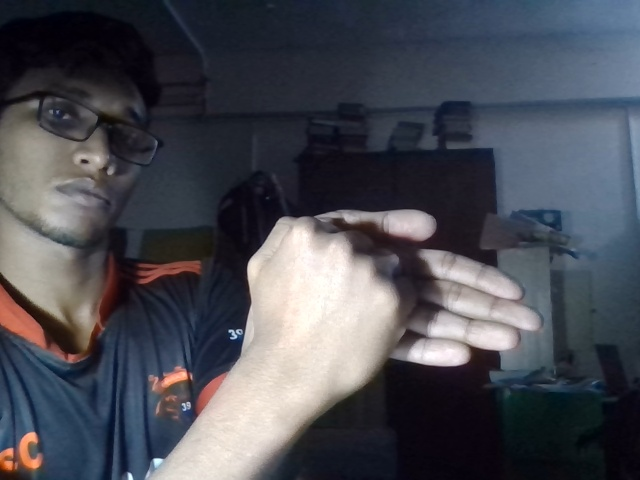b: (223, 208, 555, 377)
